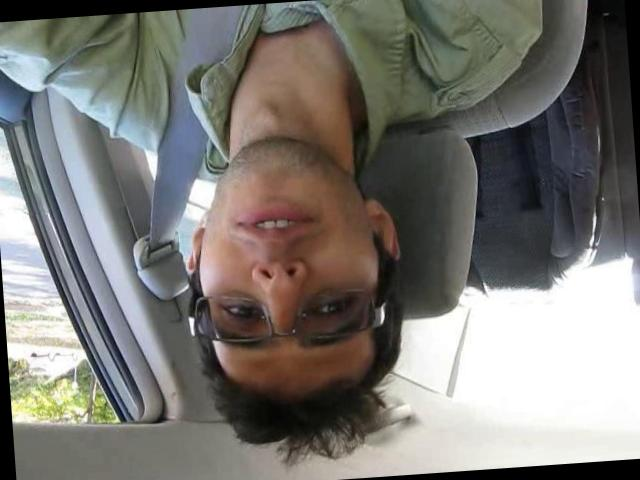eye_open: (296, 288, 362, 326), (214, 294, 269, 331)
face: (188, 130, 384, 385)
